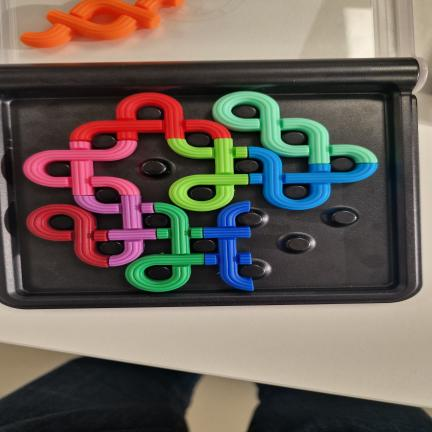B_SkyBlue: (248, 147, 377, 210)
C_DarkBlue: (203, 201, 253, 290)
D_Green: (126, 203, 204, 292)
E_Red: (70, 93, 230, 141)
F_Teal: (213, 92, 377, 164)
G_Pink: (23, 140, 140, 195)
H_Purple: (75, 195, 156, 266)
J_DarkRed: (27, 205, 109, 267)
K_YellowGreen: (167, 138, 248, 211)
board: (0, 59, 421, 309)
hinge: (0, 56, 428, 89)
pin: (142, 160, 167, 176), (188, 186, 214, 201), (95, 187, 119, 203), (50, 215, 74, 230), (237, 212, 262, 226), (98, 241, 123, 255), (146, 266, 171, 280), (240, 264, 265, 278), (93, 134, 116, 149), (47, 162, 70, 177), (186, 133, 210, 147), (235, 159, 259, 173), (286, 237, 310, 251), (137, 107, 162, 120), (332, 211, 357, 224), (331, 158, 354, 172), (284, 185, 307, 199), (145, 214, 168, 228), (282, 132, 306, 145), (193, 239, 215, 253), (233, 105, 256, 118)
